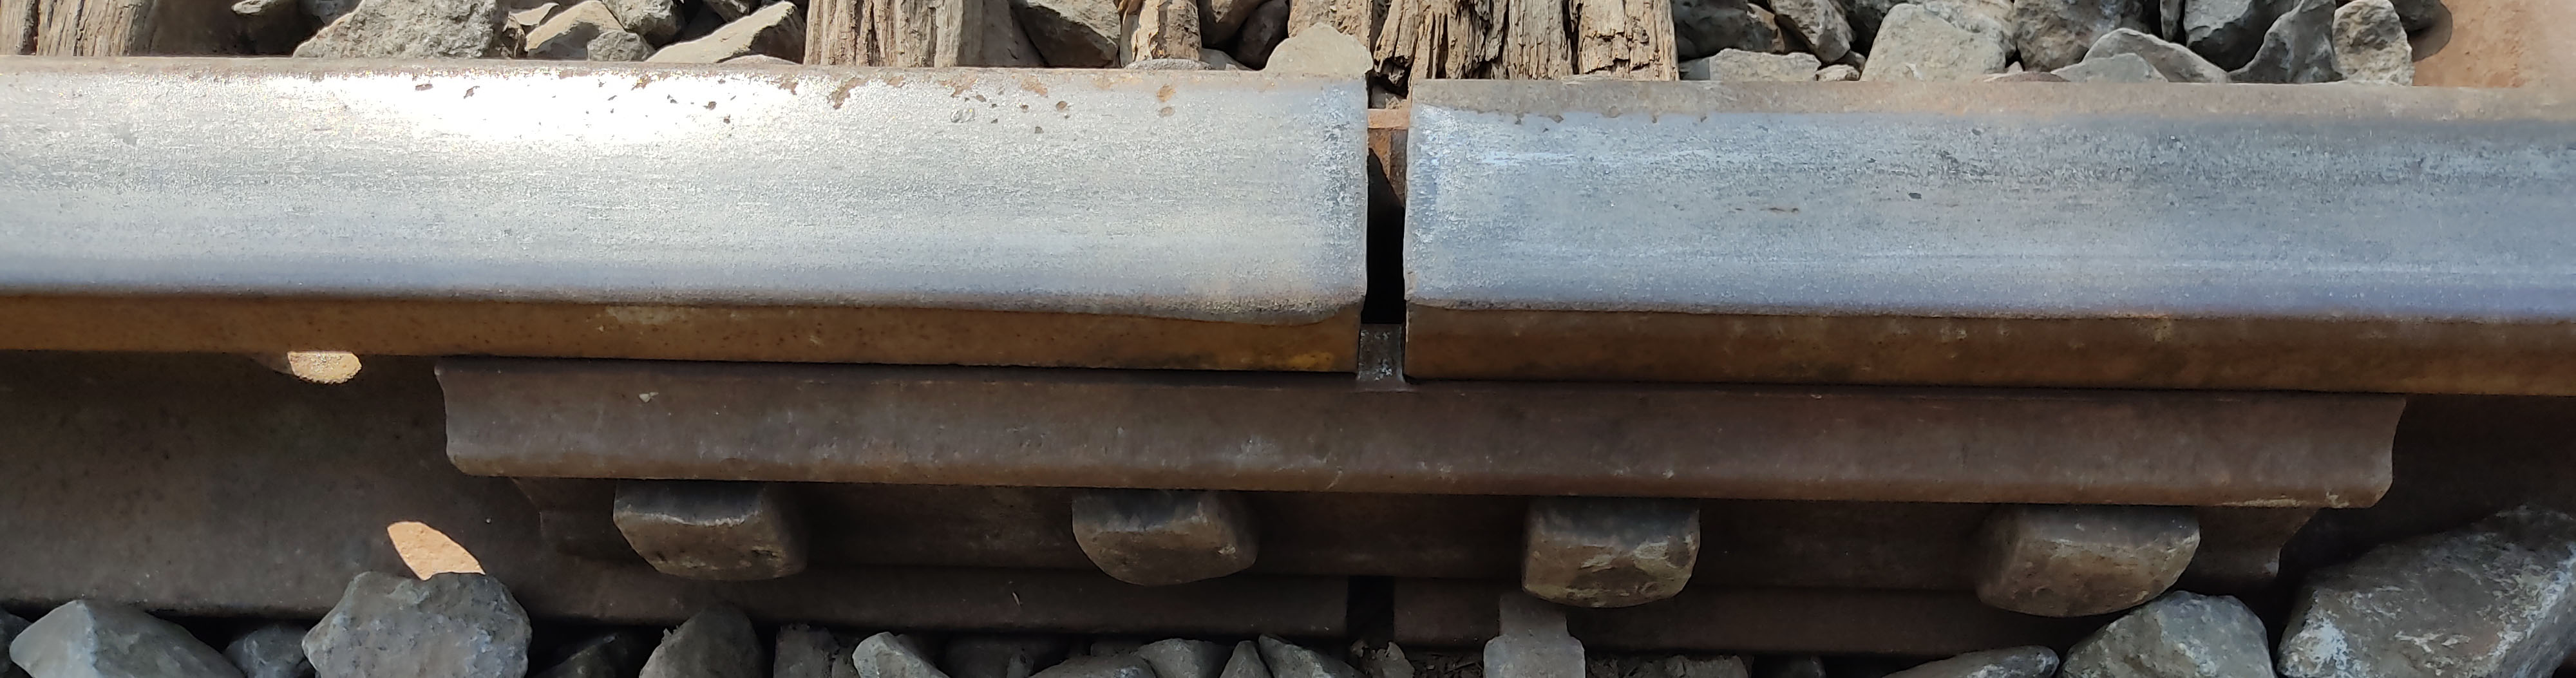error2: (1314, 56, 1520, 424)
